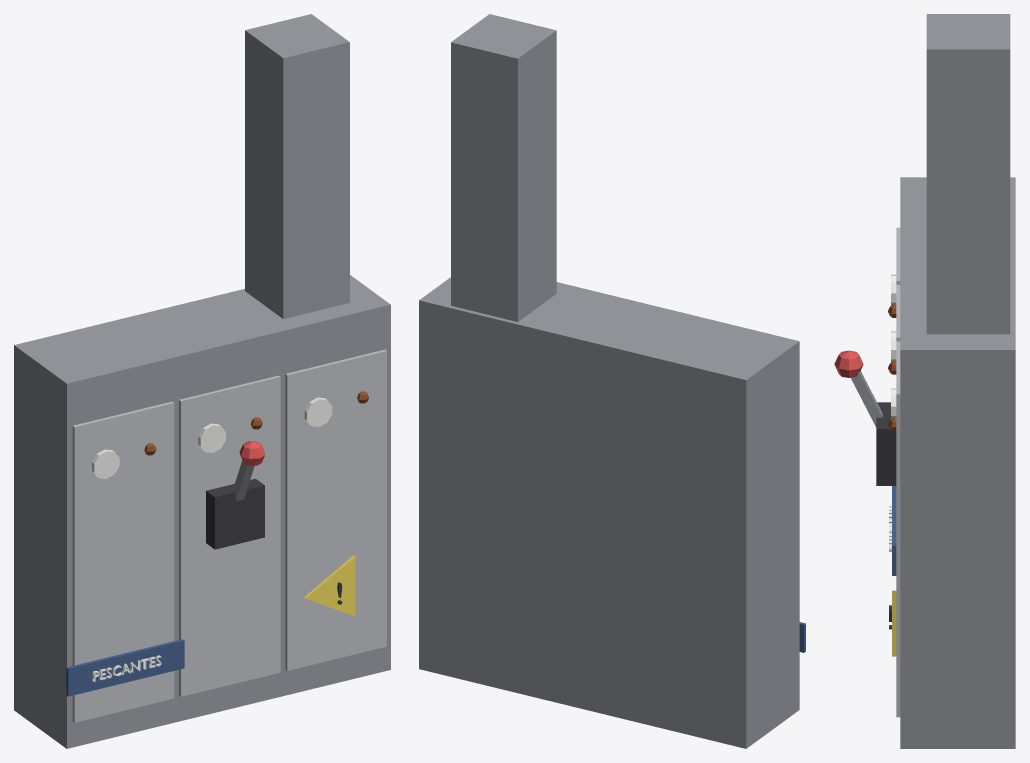
Rendered from CR_CuadroElectrico.fbx.
3 views of the same model, side by side, from view 1: azimuth 30°, elevation 25°; view 2: azimuth 150°, elevation 25°; view 3: azimuth 270°, elevation 25° (orthographic). The views are drawn at different scales.
Visible parts, largest first — view 1: CR_CuadroElectrico; view 2: CR_CuadroElectrico; view 3: CR_CuadroElectrico.
Part boxes in pixels (x1=…): CR_CuadroElectrico: x1=14, y1=14, x2=390, y2=748; CR_CuadroElectrico: x1=419, y1=14, x2=805, y2=748; CR_CuadroElectrico: x1=834, y1=14, x2=1015, y2=748.
Bounding box in the file's own units: 1.97 × 3.6 × 0.865.
